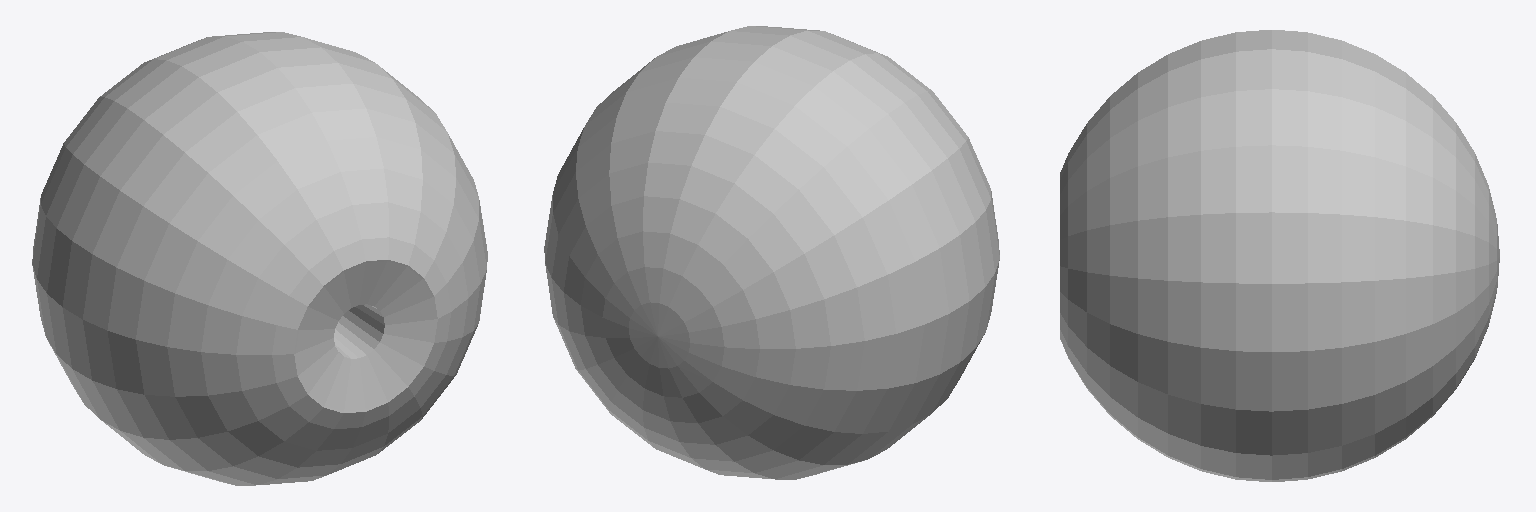
File: BigBoneSphere.obj
The picture shows the model from 3 angles: view 1: azimuth 30°, elevation 25°; view 2: azimuth 150°, elevation 25°; view 3: azimuth 270°, elevation 25°; orthographic projection.
Visible parts, largest first — view 1: Sphere; view 2: Sphere; view 3: Sphere.
Part boxes in pixels (bbox=[...]): Sphere: bbox=[32, 32, 487, 485]; Sphere: bbox=[544, 26, 999, 479]; Sphere: bbox=[1060, 30, 1499, 481].
Size of the model in its own units: 0.6378 by 0.6378 by 0.615.